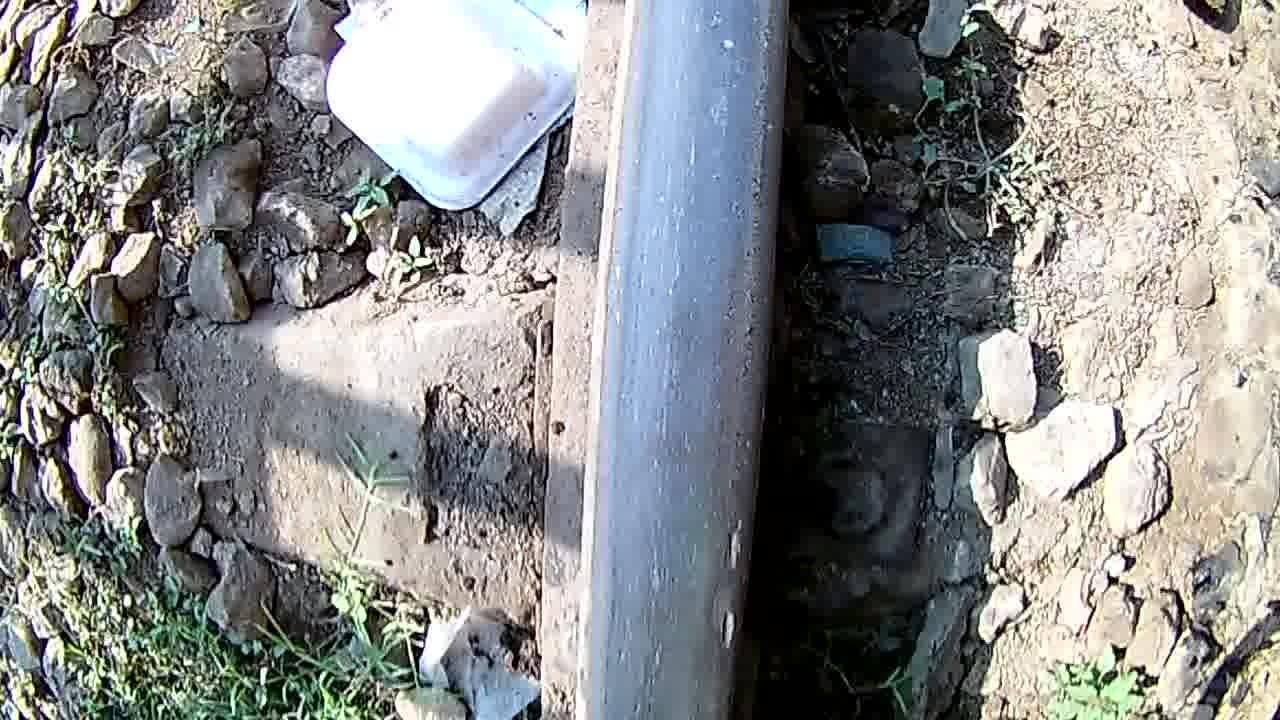crack: (574, 0, 771, 720)
